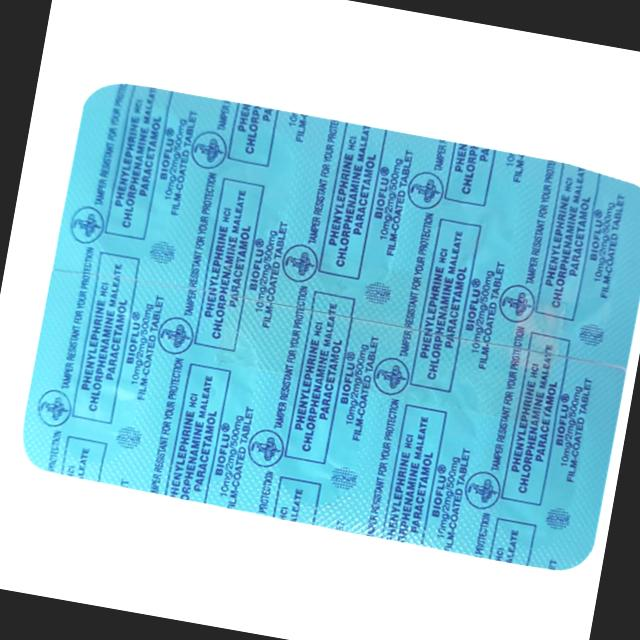blister: (9, 70, 640, 585)
